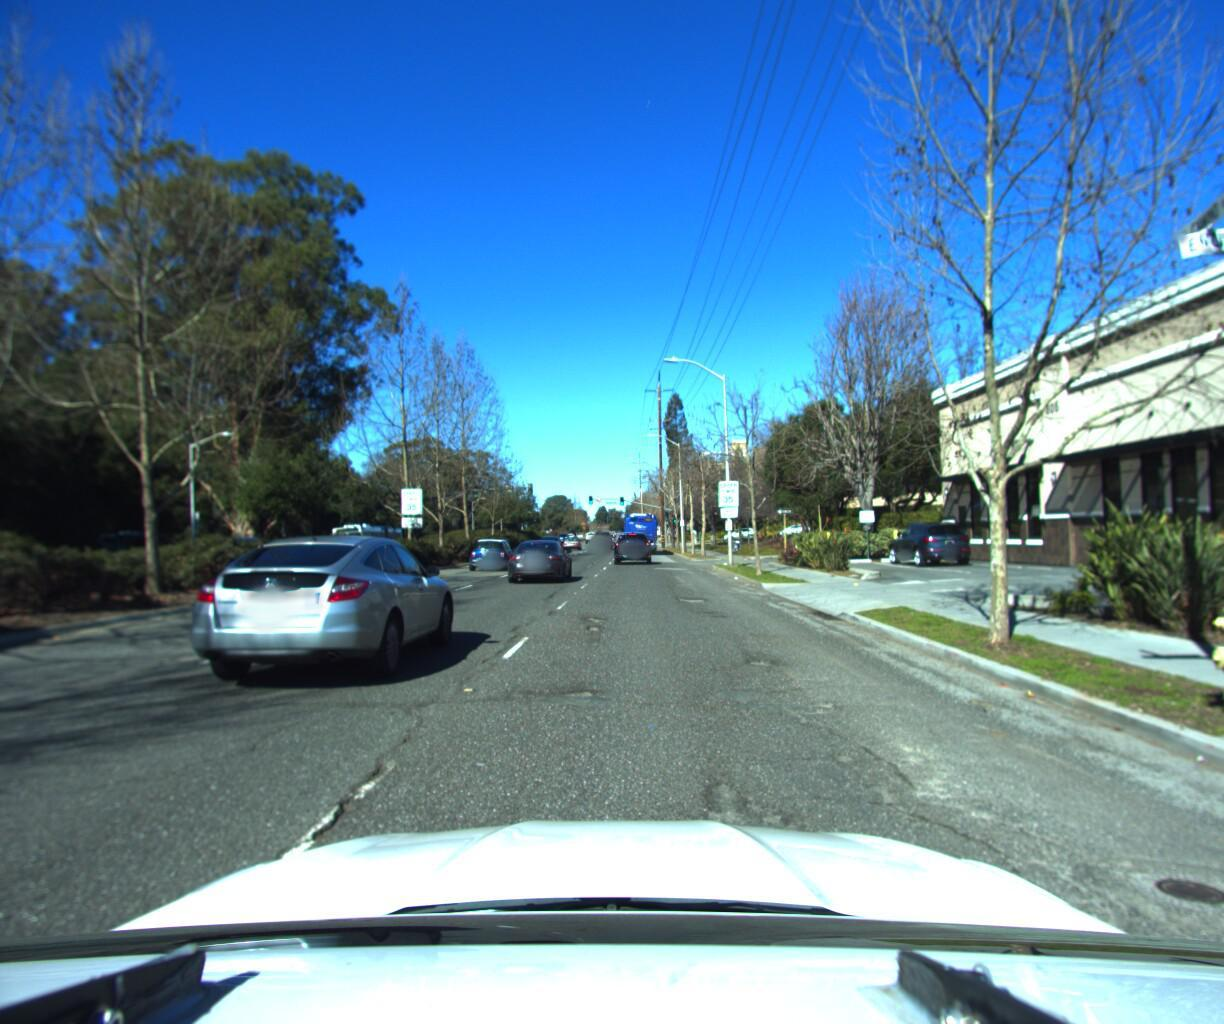bus: (325, 517, 411, 553), (619, 505, 660, 549)
car: (162, 522, 466, 691), (881, 513, 979, 562), (503, 534, 573, 581), (466, 532, 518, 567), (612, 526, 654, 561), (558, 527, 583, 546), (593, 527, 616, 546)
